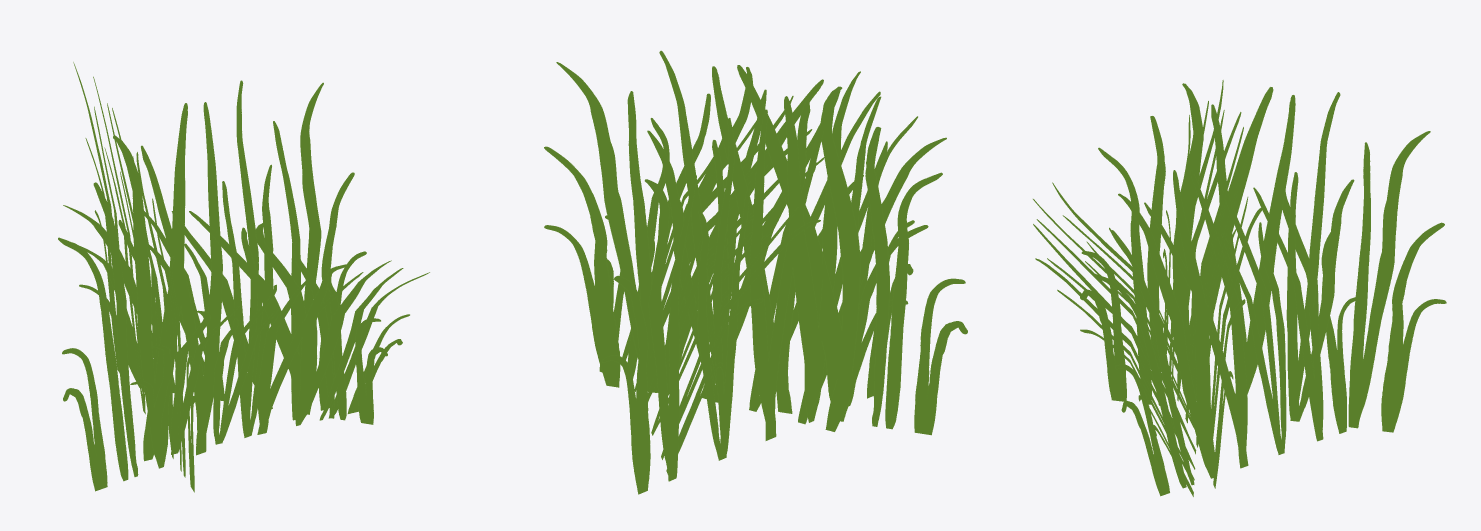
The model's file is MEADOW_SM_Grass_01_01.gltf.
The picture shows the model from 3 angles, left to right: view 1: azimuth 30°, elevation 25°; view 2: azimuth 150°, elevation 25°; view 3: azimuth 270°, elevation 25°; orthographic projection. The views are drawn at different scales.
Visible parts, largest first — view 1: SM_Grass_01_01_LOD0; view 2: SM_Grass_01_01_LOD0; view 3: SM_Grass_01_01_LOD0.
Part boxes in pixels (bbox=[...]): SM_Grass_01_01_LOD0: bbox=[58, 62, 429, 492]; SM_Grass_01_01_LOD0: bbox=[544, 50, 967, 494]; SM_Grass_01_01_LOD0: bbox=[1033, 80, 1446, 496].
Bounding box in the file's own units: 0.3985 × 0.3371 × 0.4178.
Materials: 1 (1 with a texture image).
